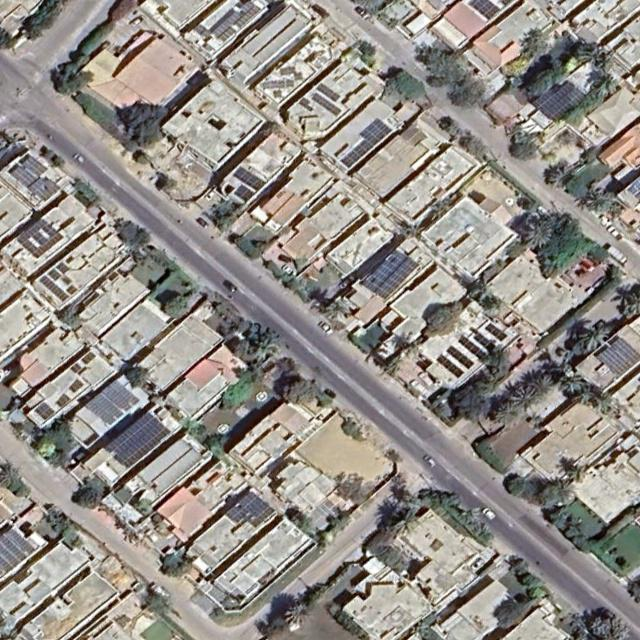solar panel: (105, 411, 171, 470), (341, 118, 393, 168), (363, 251, 418, 298), (87, 380, 139, 426), (535, 81, 586, 122), (211, 0, 260, 42), (17, 218, 64, 258), (226, 491, 275, 529), (0, 529, 37, 579), (596, 337, 639, 377), (10, 155, 48, 188), (28, 178, 60, 202), (233, 166, 265, 190), (436, 353, 464, 379), (40, 276, 69, 300), (312, 93, 341, 116), (460, 337, 487, 360), (448, 347, 474, 369), (472, 0, 501, 19), (317, 83, 340, 102), (486, 323, 508, 342), (474, 333, 497, 351), (235, 184, 254, 202), (35, 402, 55, 419), (281, 66, 301, 80), (69, 377, 85, 393), (194, 23, 211, 37), (299, 97, 313, 112), (265, 80, 294, 87), (56, 394, 70, 408), (83, 352, 97, 365), (48, 268, 61, 282), (58, 263, 70, 275), (66, 285, 78, 295), (71, 363, 82, 372), (274, 91, 281, 98)
